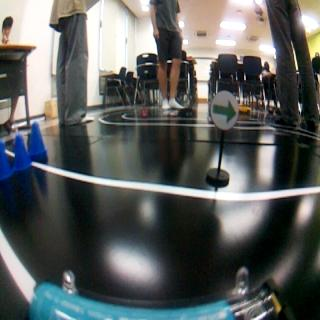right: (211, 88, 240, 132)
